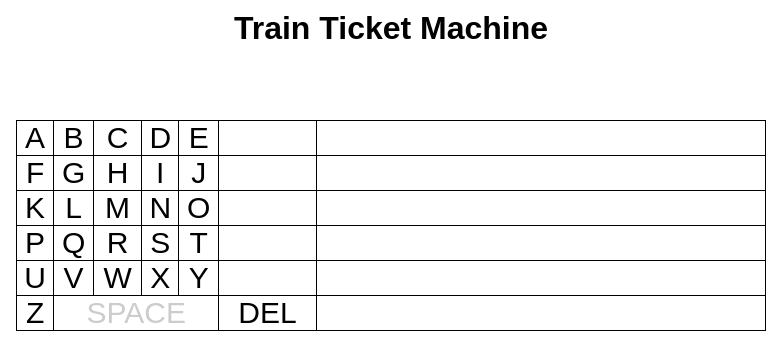
Test: checking ui elements › checks clearing input clears options
The image size is (783, 348).
What coordinates should you click on to do the following:
click the button "s"
I would click on:
 (160, 243)
Its box is x1=142 y1=226 x2=178 y2=260.
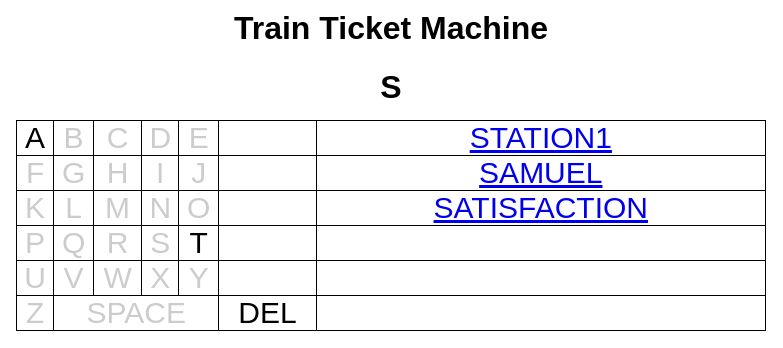
Expected: the link "Station1" is shown, x1=470 y1=121 x2=612 y2=154
Expected: the link "Samuel" is shown, x1=479 y1=156 x2=602 y2=189
Expected: the link "Satisfaction" is shown, x1=434 y1=191 x2=648 y2=224
What coordinates should you click on to do the following:
click the button "del"
I would click on:
 (267, 313)
Its box is x1=219 y1=296 x2=316 y2=330.
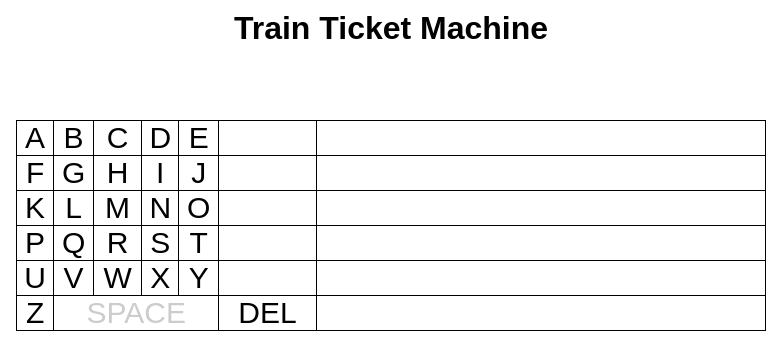
Expected: the link "Station1" is gone
Expected: the link "Samuel" is gone
Expected: the link "Satisfaction" is gone
